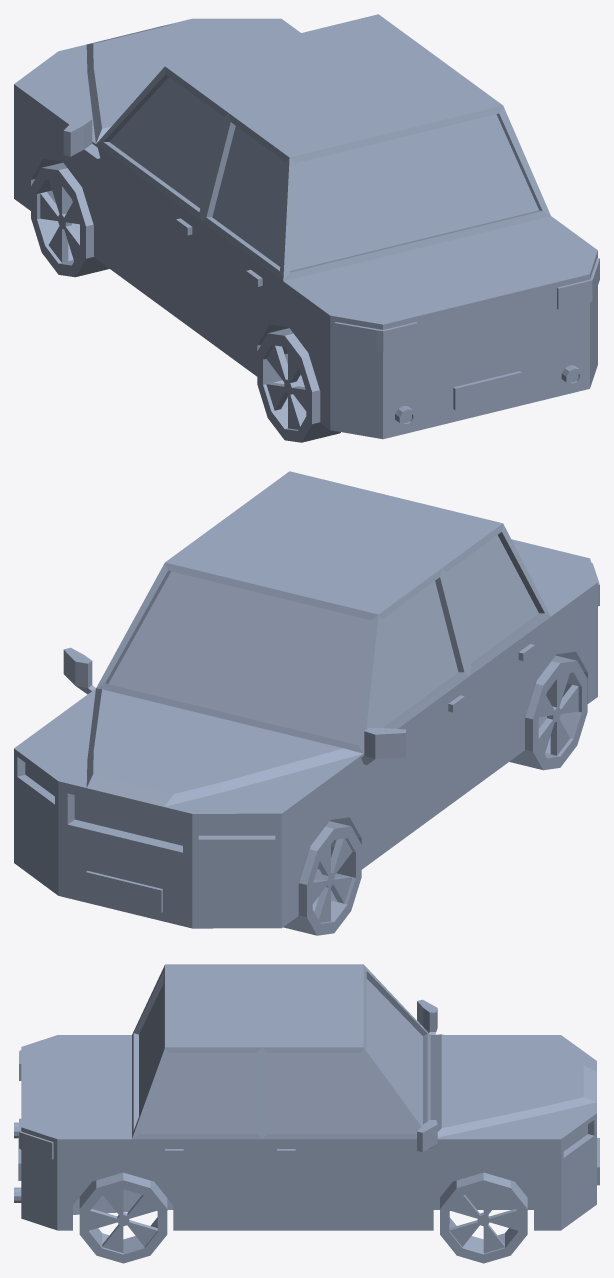
The model's file is sedan.glb.
The picture shows the model from 3 angles, top to bottom: view 1: azimuth 30°, elevation 25°; view 2: azimuth 150°, elevation 25°; view 3: azimuth 270°, elevation 25°; orthographic projection. The views are drawn at different scales.
Visible parts, largest first — view 1: sedan; view 2: sedan; view 3: sedan.
Boxes of the visible parts, x1=… form: sedan: x1=14, y1=14, x2=599, y2=442; sedan: x1=14, y1=471, x2=599, y2=935; sedan: x1=14, y1=964, x2=599, y2=1263.
Size of the model in its own units: 2.42 by 1.73 by 4.5.
